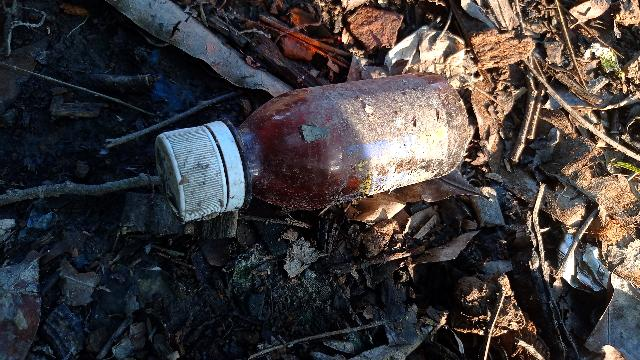bottle: (162, 46, 470, 230)
